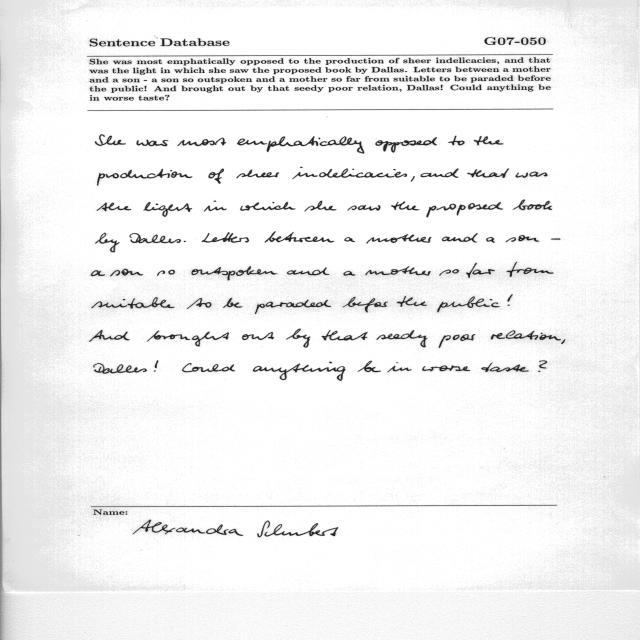word: (237, 136, 364, 154), (253, 362, 345, 381), (98, 169, 193, 185), (292, 167, 407, 179), (147, 331, 229, 347), (192, 266, 278, 281), (426, 202, 503, 217), (255, 300, 331, 314), (437, 297, 500, 313), (92, 297, 175, 309), (375, 137, 437, 153), (377, 330, 428, 348), (265, 231, 334, 243), (143, 202, 192, 217), (343, 297, 388, 313), (507, 262, 554, 277), (491, 331, 561, 341), (366, 234, 432, 244), (365, 266, 431, 276), (93, 363, 147, 374), (129, 233, 181, 243), (439, 334, 476, 348), (202, 232, 249, 243), (322, 330, 368, 341), (240, 202, 296, 211), (90, 330, 130, 342), (182, 363, 235, 372), (96, 233, 120, 252), (286, 329, 310, 348), (466, 263, 495, 278), (481, 363, 529, 372), (467, 168, 509, 178), (178, 138, 227, 146), (513, 200, 552, 210), (237, 170, 280, 179), (421, 168, 459, 178), (95, 134, 126, 146), (305, 201, 337, 212), (287, 268, 329, 276), (397, 296, 427, 307), (442, 233, 478, 242), (97, 203, 131, 212), (422, 366, 470, 372), (187, 298, 212, 309), (474, 136, 503, 145), (391, 202, 420, 211), (208, 168, 224, 184), (242, 332, 274, 340), (204, 201, 227, 212), (358, 361, 381, 372), (387, 363, 412, 373), (505, 235, 539, 242), (110, 269, 143, 276), (348, 205, 381, 211), (137, 140, 169, 146), (516, 172, 548, 178), (223, 298, 242, 308), (448, 136, 465, 146), (439, 269, 459, 276), (157, 269, 175, 276), (538, 360, 547, 372), (91, 270, 105, 276), (507, 294, 513, 306), (344, 271, 356, 276), (154, 360, 159, 372), (344, 237, 355, 242), (486, 237, 495, 243), (411, 176, 415, 182), (551, 238, 561, 240), (561, 339, 565, 344), (184, 241, 186, 242)
